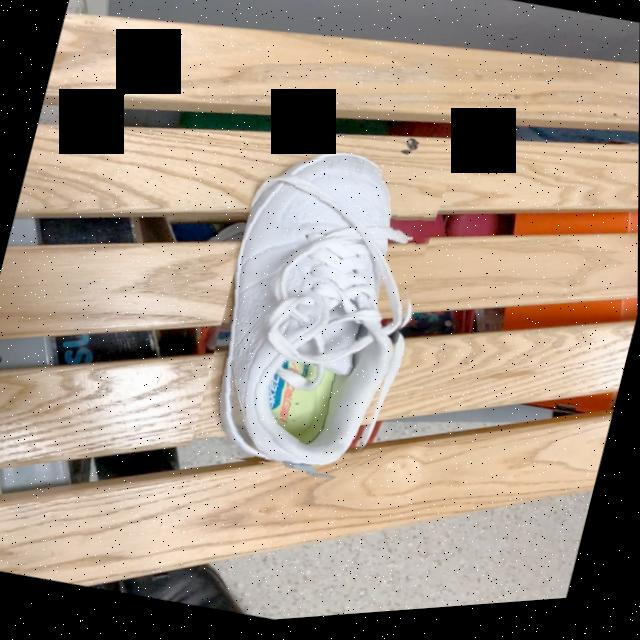shoe: (221, 164, 413, 478)
